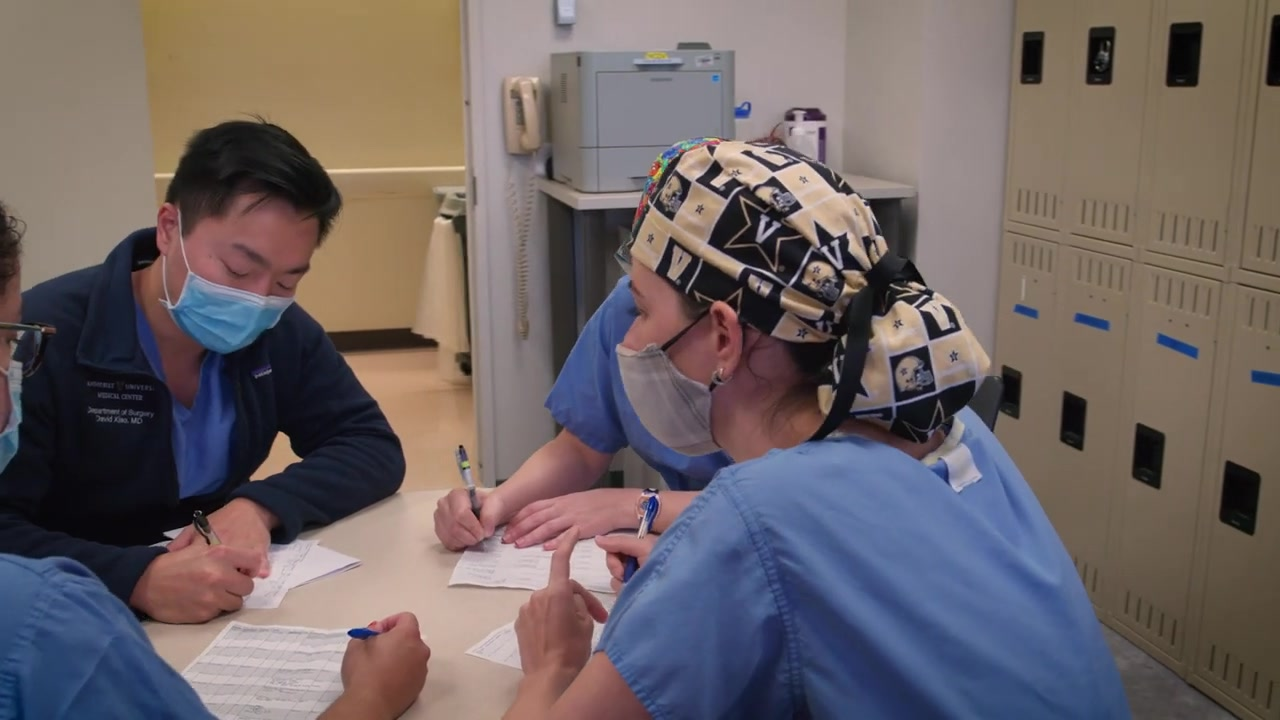cabinet: (898, 1, 1276, 718)
chair: (966, 373, 1007, 432)
countertop: (537, 173, 916, 211)
dispenser: (786, 110, 816, 160)
staff: (499, 139, 1134, 720), (1, 197, 430, 720), (1, 119, 408, 624), (432, 136, 788, 552)
table: (136, 487, 661, 720)
telephone: (495, 75, 546, 345)
